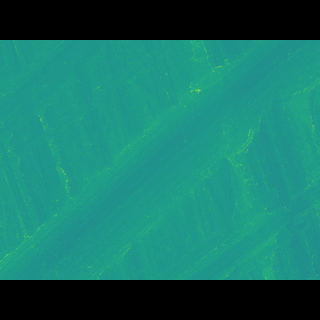Loch: (0, 68, 319, 250), (152, 152, 319, 249), (0, 70, 115, 151)
